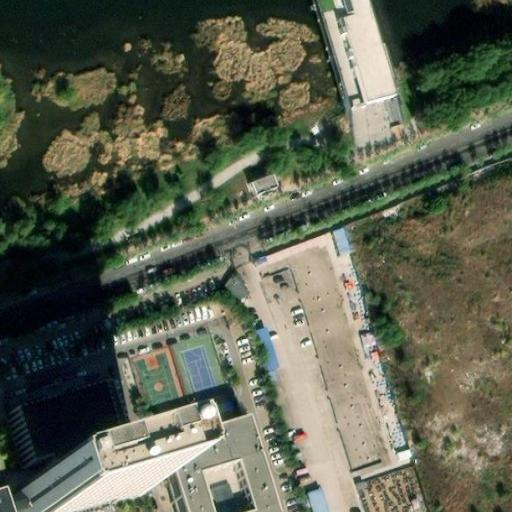building: (285, 245, 388, 471), (152, 427, 259, 512), (0, 383, 104, 464), (14, 458, 146, 512), (344, 89, 407, 148), (252, 323, 281, 371), (221, 269, 252, 302), (247, 167, 281, 196), (328, 223, 352, 254), (302, 486, 323, 512)
